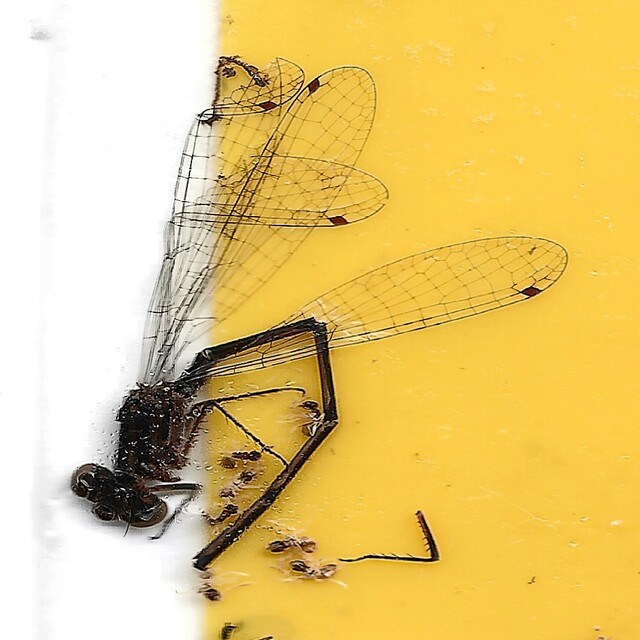Hymenoptera: (282, 557, 340, 584), (291, 397, 322, 436), (263, 534, 319, 555), (216, 448, 263, 471)
Odonata: (70, 56, 570, 571)
